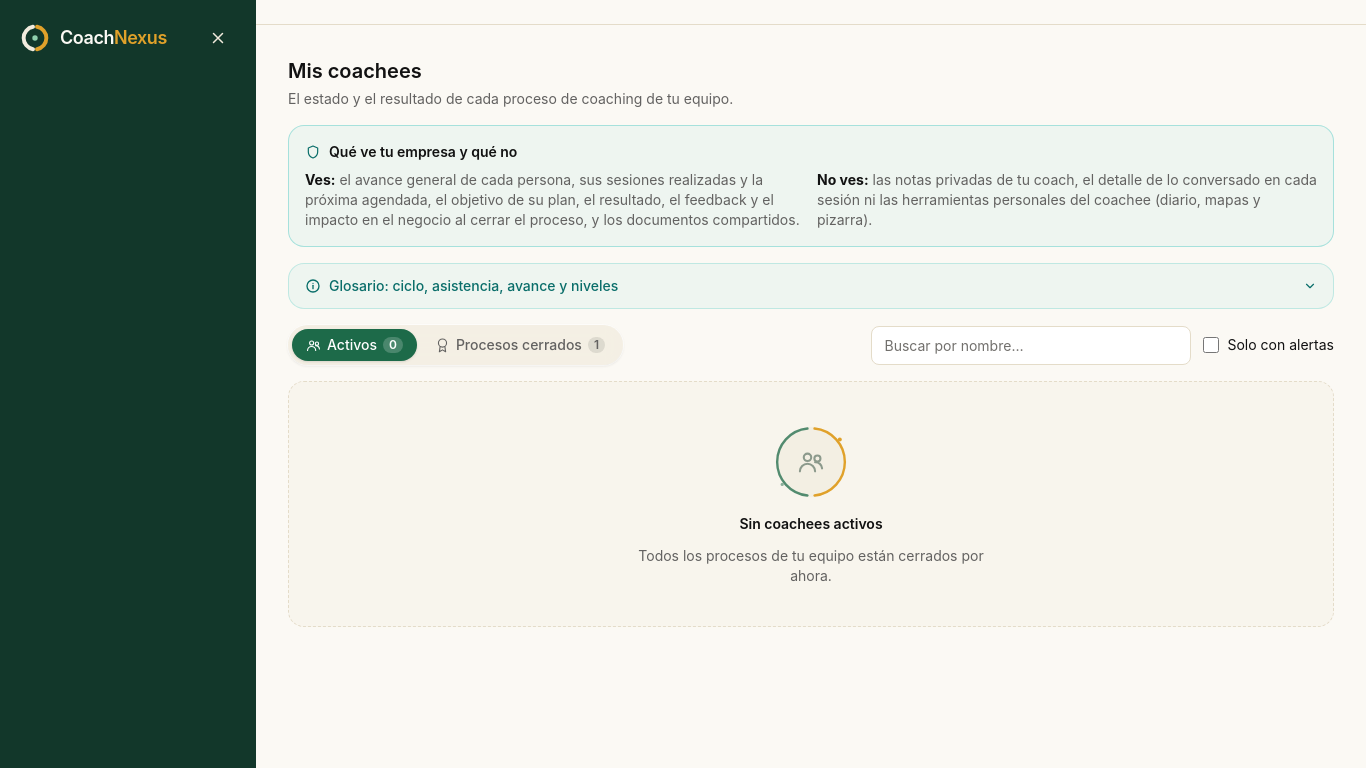
it: CoacheesView (empresa) › opens the historial modal for a closed-process coachee
This screenshot has width=1366, height=768.
Click the tab "Procesos cerrados 1" at (520, 345), box [421,329,619,361]
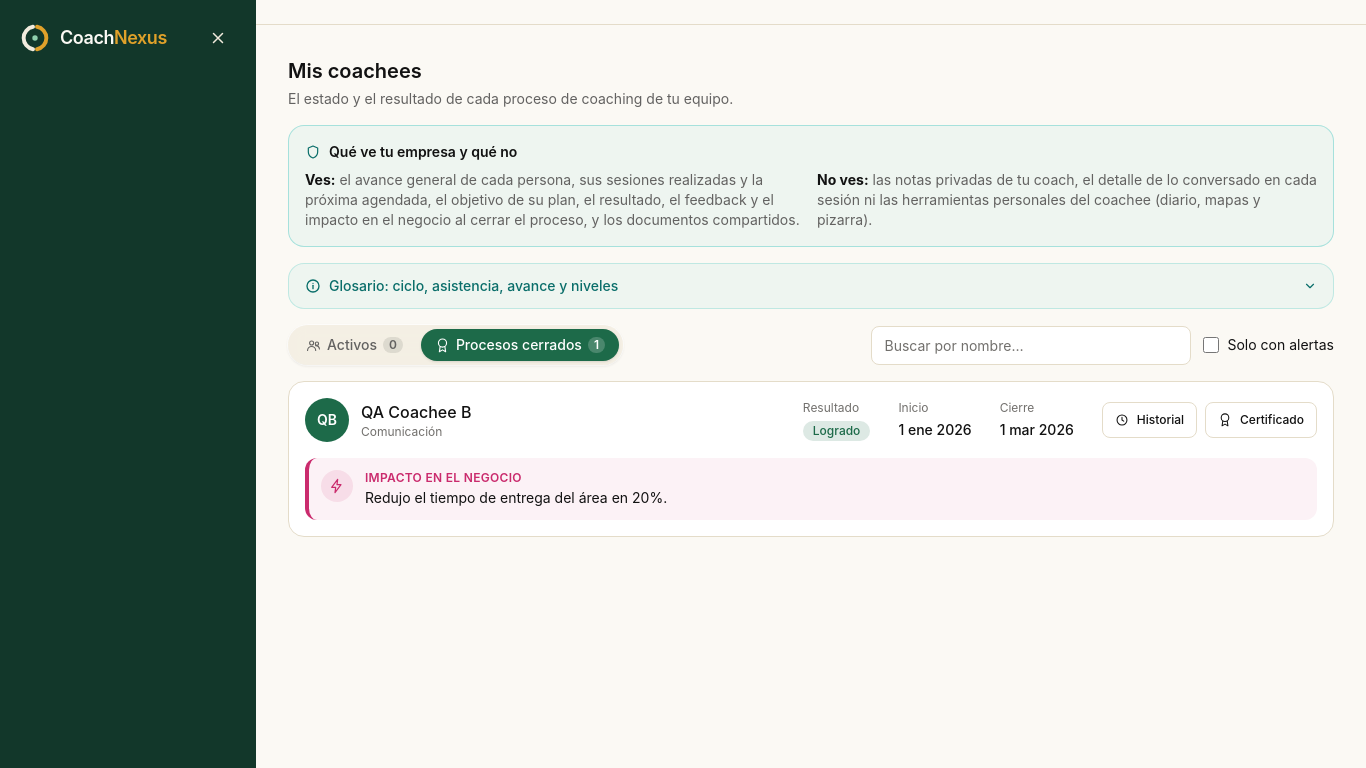
Click the button "Historial" at (1149, 420), box [1102,402,1197,438]
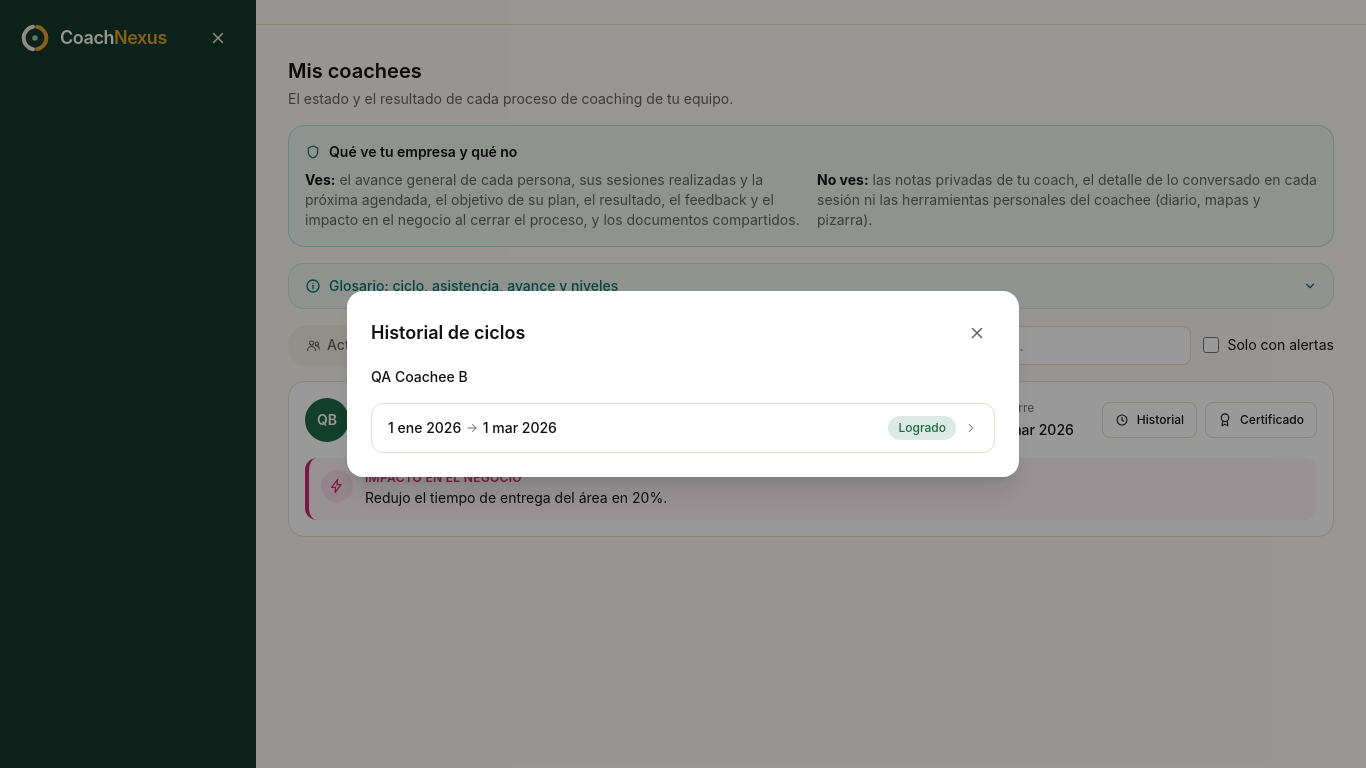
Result: the text "Historial de ciclos" is shown at [371,319,525,347]
